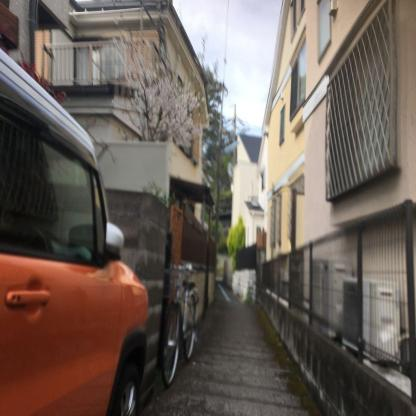Someiyoshino: (100, 16, 214, 160)
